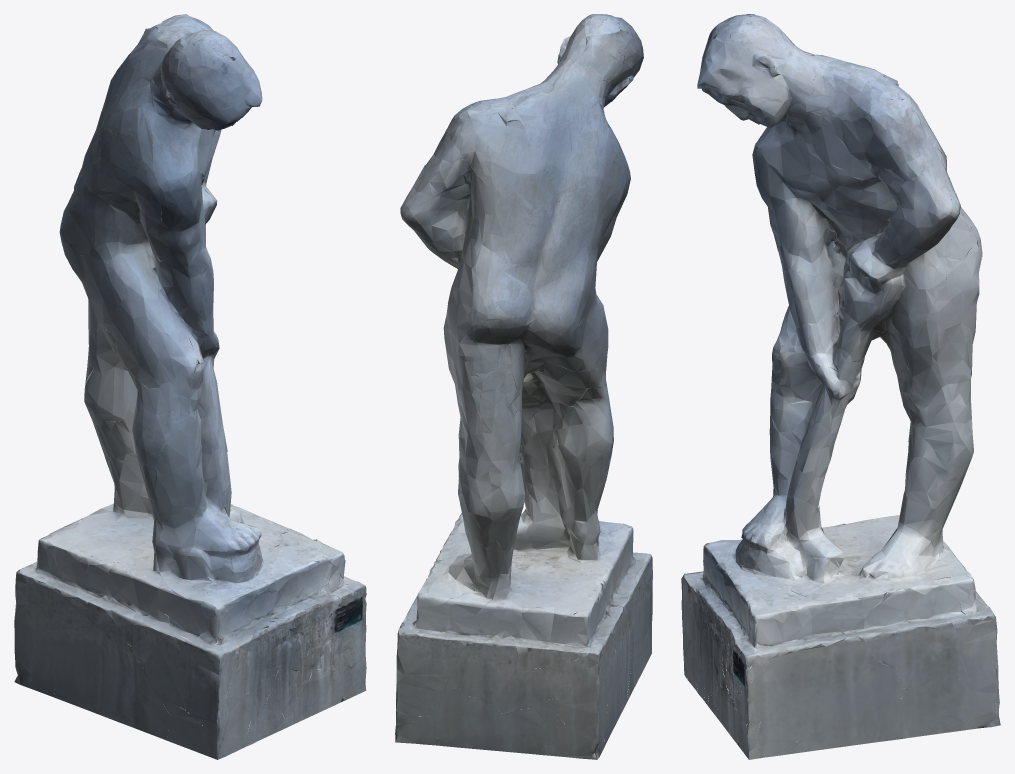
File: gardyrkjumadur_an_gras_dec.obj
3 renders of one model, left to right at view 1: azimuth 30°, elevation 25°; view 2: azimuth 150°, elevation 25°; view 3: azimuth 270°, elevation 25°, orthographic. The views are drawn at different scales.
Parts seen in each view (by area): view 1: Object; view 2: Object; view 3: Object.
Part boxes in pixels (box(x1,y1,x2,y2)): Object: box(14, 14, 366, 759); Object: box(395, 14, 652, 759); Object: box(681, 14, 1000, 759).
Size of the model in its own units: 0.8888 by 2.31 by 1.
Materials: 1 (1 with a texture image).
